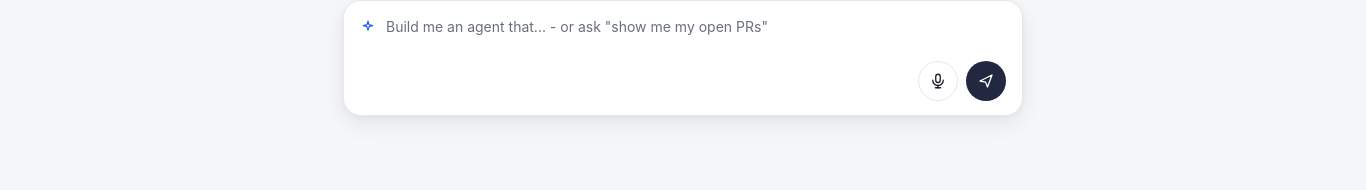
it: CommandBar - hero mode (empty transcript) › submits the typed input and transitions to the docked transcript view on success
In the field with placeholder "Build me an agent that... - or ask \"show me my open PRs\"": point(696, 27) x1=386 y1=17 x2=1006 y2=37, type "show me my open PRs"
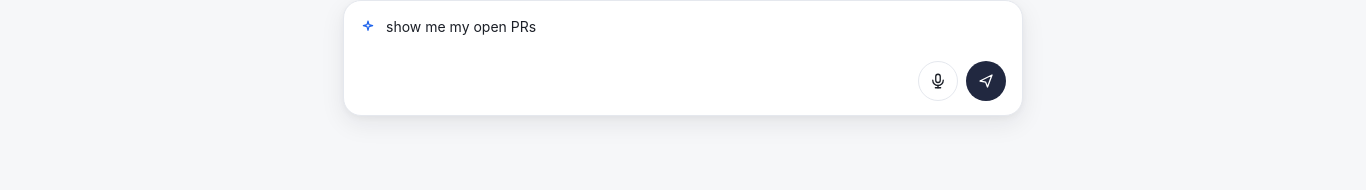
Click the button titled "Send": point(986, 81) x1=966 y1=61 x2=1006 y2=101
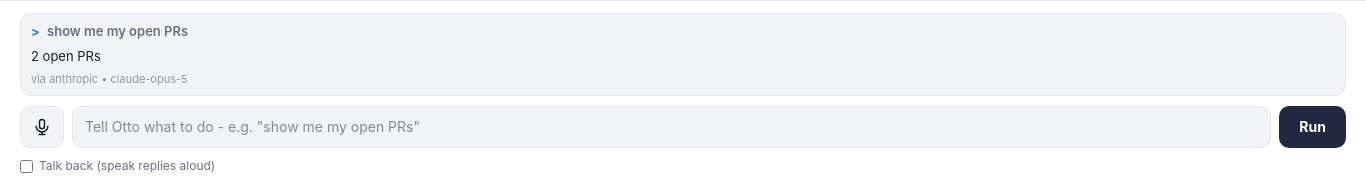
Expected: the text "2 open PRs" is shown, x1=31 y1=48 x2=101 y2=64
Expected: the text "Talk back (speak replies aloud)" is shown, x1=20 y1=158 x2=215 y2=173
